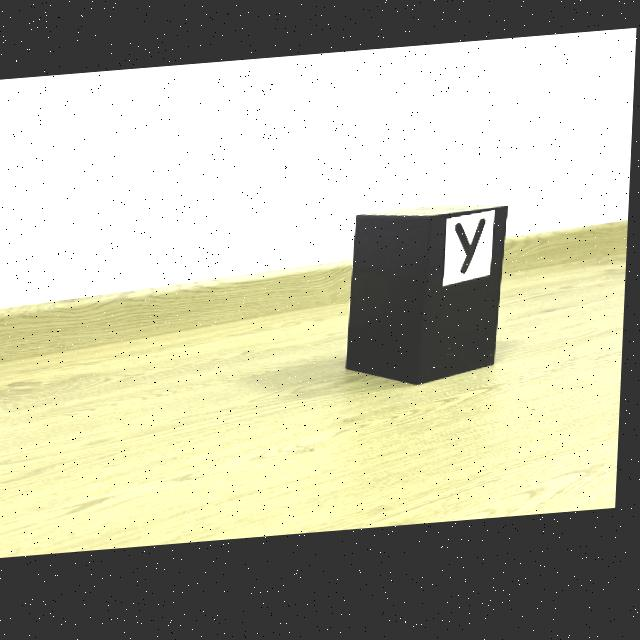Y: (458, 227, 489, 282)
